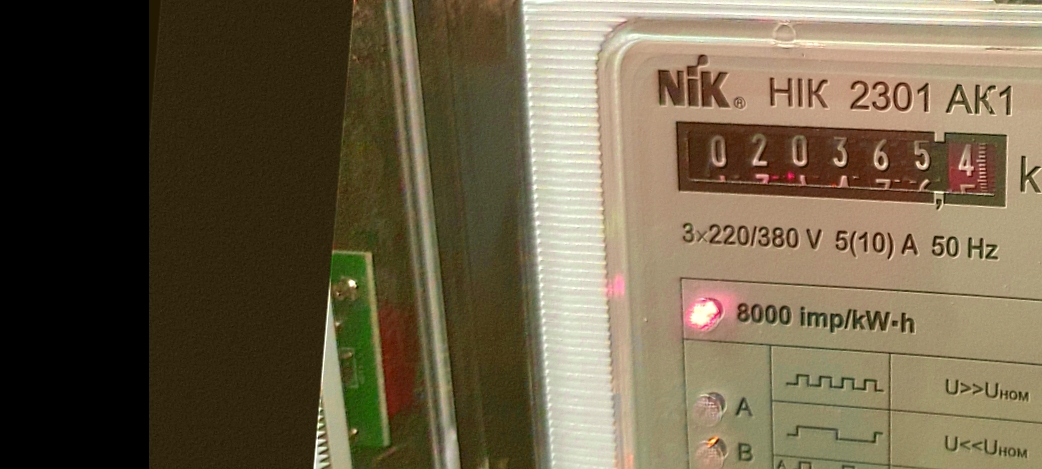0: (708, 133, 732, 169), (790, 132, 812, 169)
2: (748, 131, 773, 169)
3: (831, 133, 852, 169)
4: (957, 141, 979, 177)
5: (912, 138, 934, 172)
6: (871, 136, 894, 173)
screen: (655, 95, 1031, 229)
